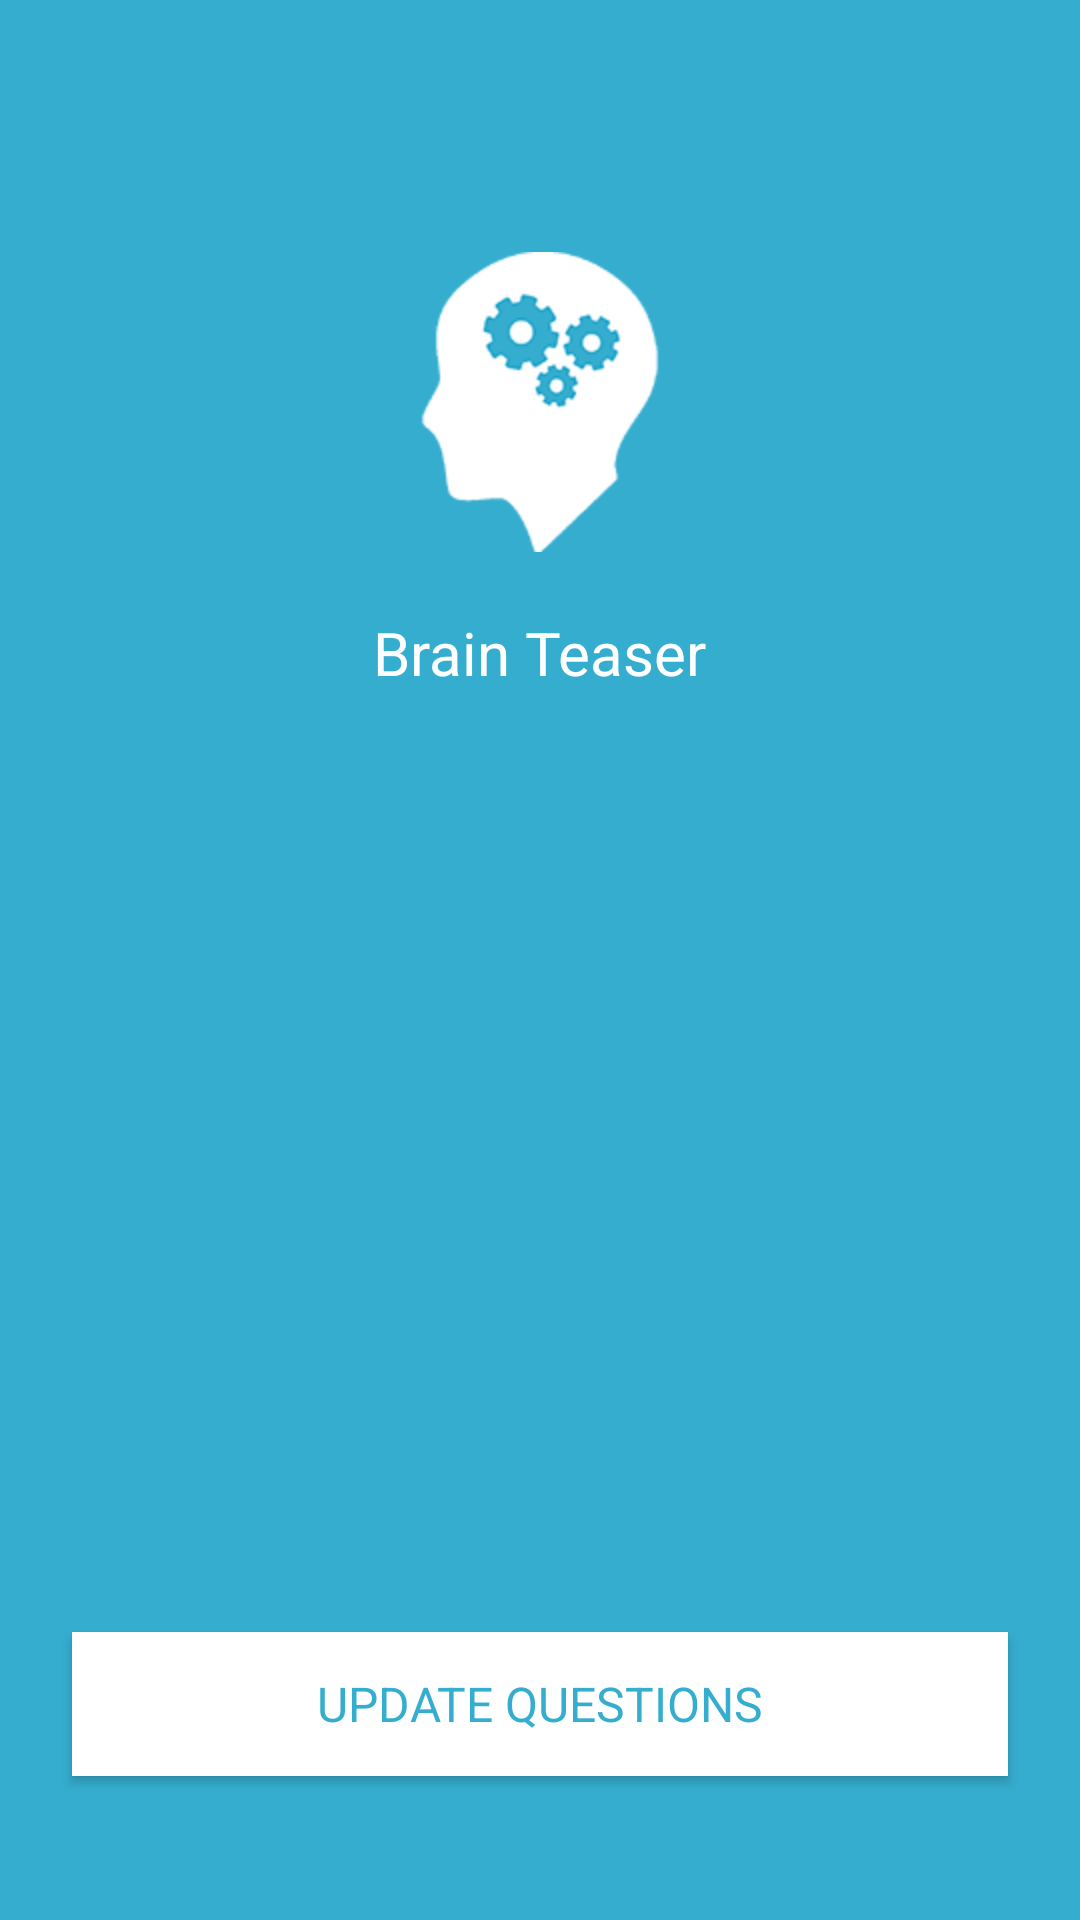

Icon click points for this 1080px×1920px phone screenshot, format point (x, y):
mind: point (540, 402)
